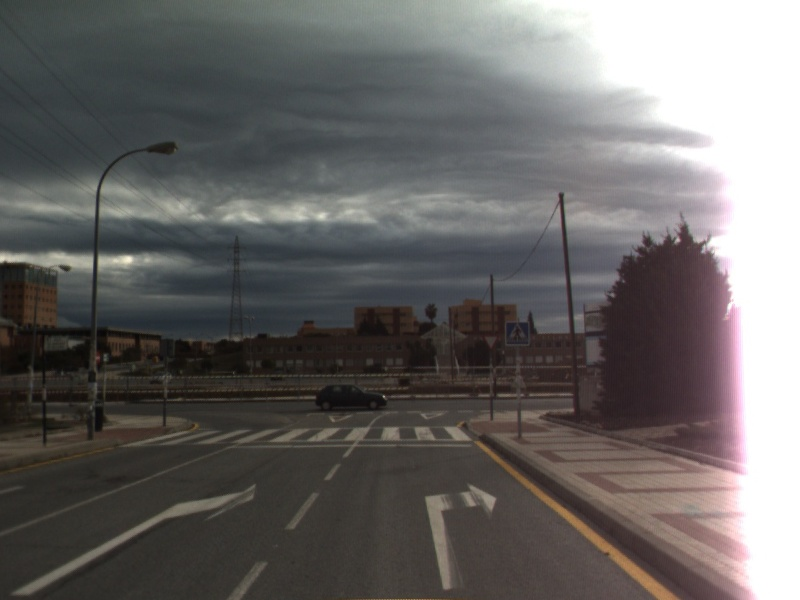RIGHT: (7, 481, 258, 598), (422, 480, 499, 592)
